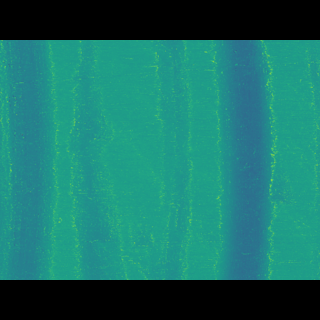Loch: (205, 69, 277, 251), (65, 69, 126, 250), (0, 69, 59, 250), (152, 68, 189, 249)
